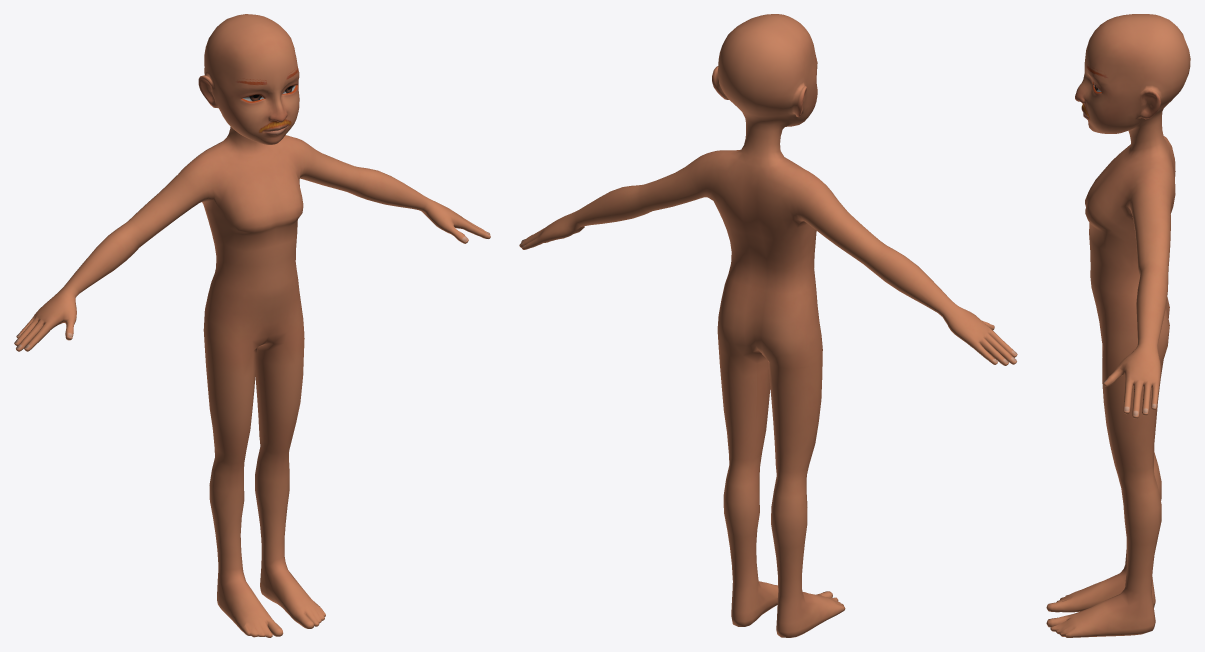
Rendered from frame_0021.glb.
3 views of the same model, side by side, from view 1: azimuth 30°, elevation 25°; view 2: azimuth 150°, elevation 25°; view 3: azimuth 270°, elevation 25° (orthographic). The views are drawn at different scales.
Parts seen in each view (by area): view 1: frame_0021_head_geo; view 2: frame_0021_head_geo; view 3: frame_0021_head_geo.
Boxes of the visible parts, box(x1,y1,x2,y2) form: frame_0021_head_geo: box(14, 14, 490, 637); frame_0021_head_geo: box(519, 14, 1017, 637); frame_0021_head_geo: box(1046, 14, 1190, 637).
Bounding box in the file's own units: 1.28 × 1.5 × 0.3253.
3 materials, 3 textured.
